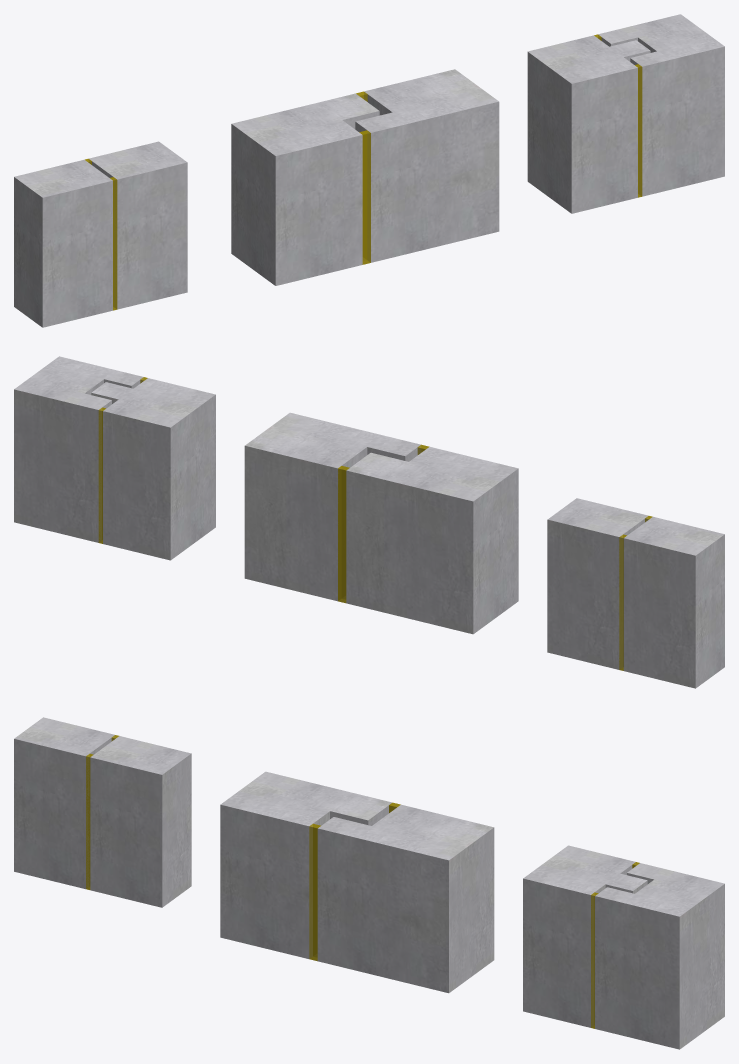
File: deformation-joint-forms.glb
3 views of the same model, one above another, from view 1: azimuth 30°, elevation 25°; view 2: azimuth 150°, elevation 25°; view 3: azimuth 330°, elevation 25° (orthographic). The views are drawn at different scales.
Visible parts, largest first — view 1: 错缝, 企口缝, 平缝; view 2: 错缝, 企口缝, 平缝; view 3: 错缝, 企口缝, 平缝.
Boxes of the visible parts, x1=… form: 错缝: x1=231, y1=69, x2=499, y2=285; 企口缝: x1=527, y1=14, x2=724, y2=213; 平缝: x1=14, y1=141, x2=187, y2=327; 错缝: x1=244, y1=412, x2=518, y2=634; 企口缝: x1=14, y1=356, x2=215, y2=560; 平缝: x1=547, y1=498, x2=724, y2=688; 错缝: x1=220, y1=771, x2=494, y2=993; 企口缝: x1=523, y1=845, x2=724, y2=1049; 平缝: x1=14, y1=717, x2=191, y2=907.
Size of the model in its own units: 3.22 by 0.6 by 0.37.
6 materials, 3 textured.
